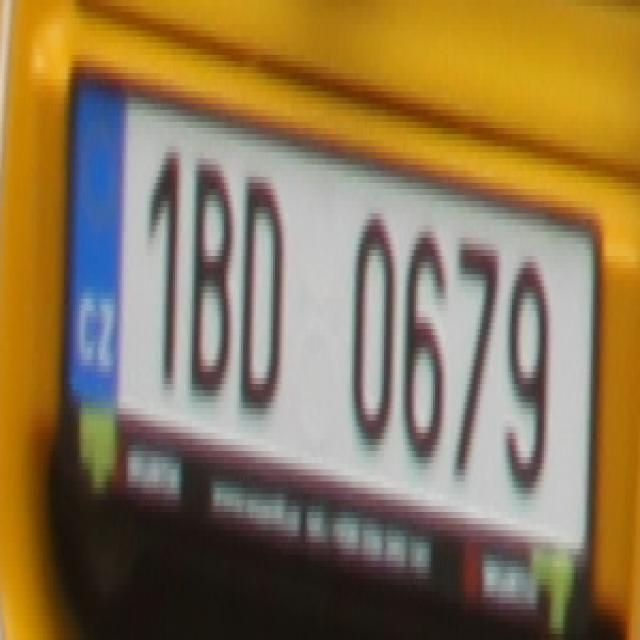0: (348, 201, 394, 457)
1: (141, 146, 179, 396)
6: (399, 214, 446, 464)
7: (450, 219, 501, 500)
9: (502, 225, 552, 500)
B: (186, 146, 230, 396)
D: (241, 170, 286, 420)
